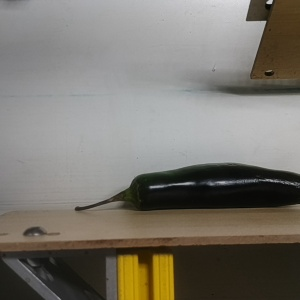Cut Point: (120, 172, 154, 211)
